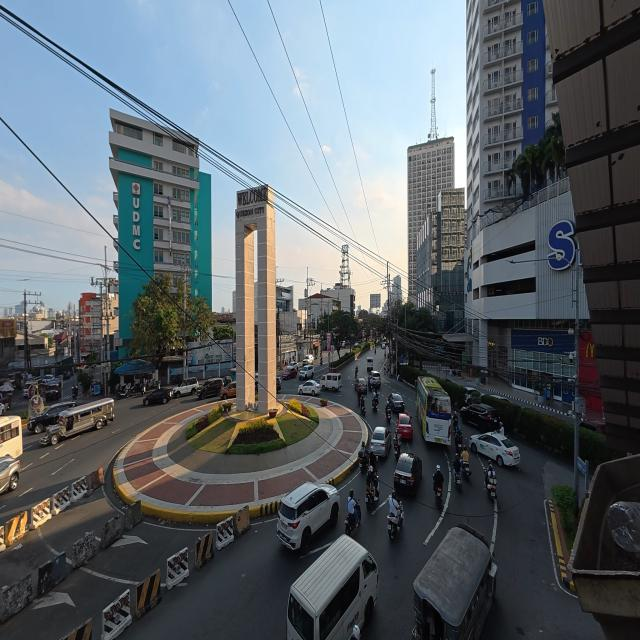Jeepneys: (413, 524, 496, 639), (40, 398, 114, 444)
bus: (416, 377, 451, 444), (0, 416, 22, 458)
car: (277, 483, 339, 554), (470, 433, 519, 466), (27, 402, 77, 433), (394, 453, 422, 492), (460, 403, 499, 431), (0, 456, 20, 493), (370, 427, 391, 457), (172, 377, 199, 398), (198, 378, 223, 399), (143, 388, 172, 405), (397, 413, 412, 440), (298, 380, 320, 396), (580, 420, 605, 434), (220, 380, 237, 400), (44, 384, 62, 402), (465, 387, 481, 404), (391, 393, 404, 413), (298, 364, 314, 380), (282, 365, 298, 380), (23, 381, 37, 398), (369, 371, 381, 390), (355, 378, 367, 394), (0, 392, 10, 410), (490, 395, 511, 403), (303, 354, 314, 364), (0, 403, 7, 415), (276, 377, 281, 391), (43, 375, 54, 381), (381, 341, 386, 350), (341, 341, 345, 348), (354, 342, 359, 347)
motorcycle: (345, 500, 361, 535), (388, 503, 403, 540), (366, 485, 379, 511), (487, 478, 496, 500), (462, 462, 471, 481), (117, 385, 129, 399), (455, 434, 463, 455), (435, 486, 442, 508), (359, 453, 366, 473), (454, 472, 461, 491), (394, 440, 400, 460), (372, 397, 378, 412), (386, 406, 391, 423), (360, 403, 366, 416), (72, 388, 78, 399), (355, 367, 358, 380)
vans: (287, 536, 378, 639), (321, 373, 341, 390), (366, 356, 374, 372)
